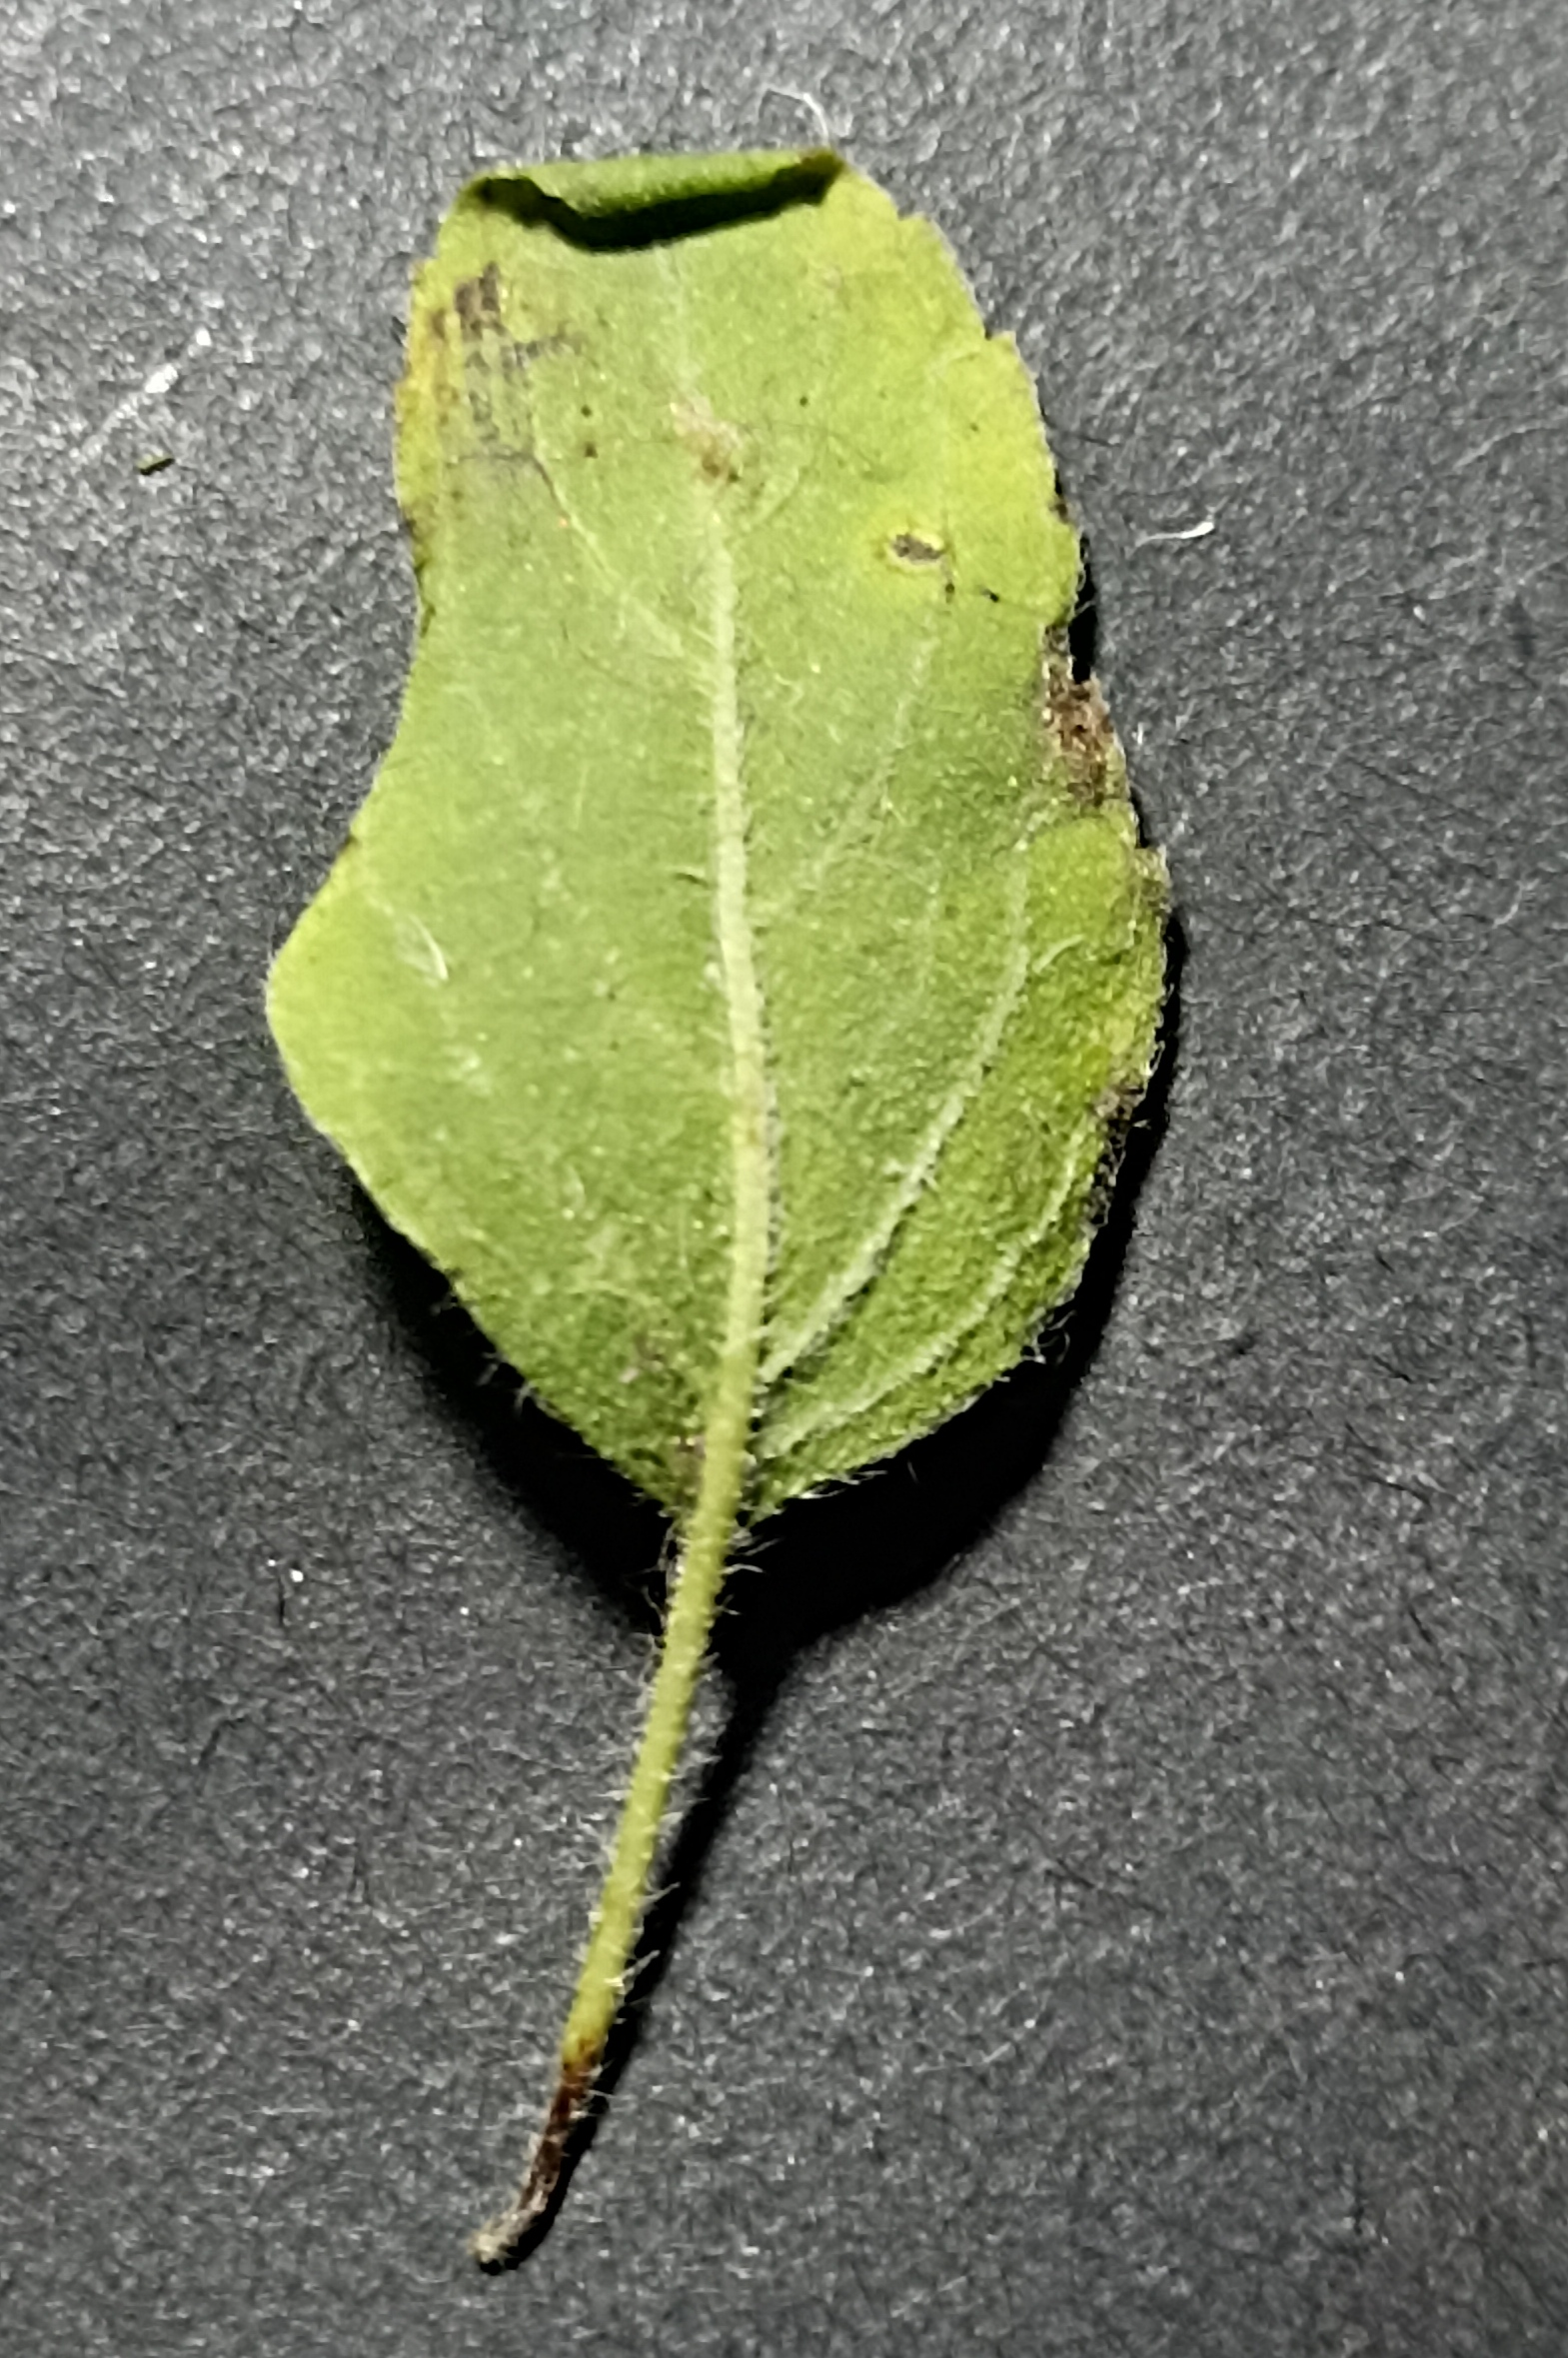Unhealthy: (266, 131, 1192, 1590)
